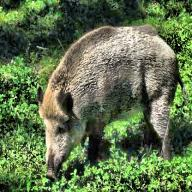boar: (44, 14, 181, 180)
